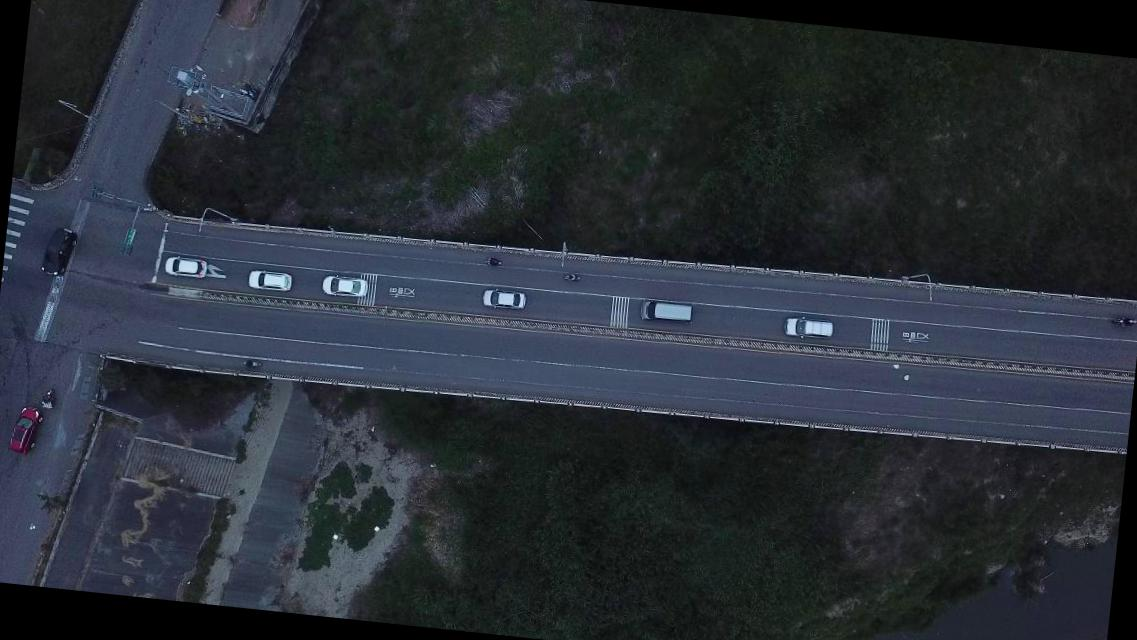vehicle: (41, 225, 77, 276), (6, 404, 42, 454), (320, 270, 369, 300), (782, 314, 834, 340), (638, 300, 694, 324), (246, 268, 292, 292), (480, 286, 526, 310), (164, 254, 208, 278)
